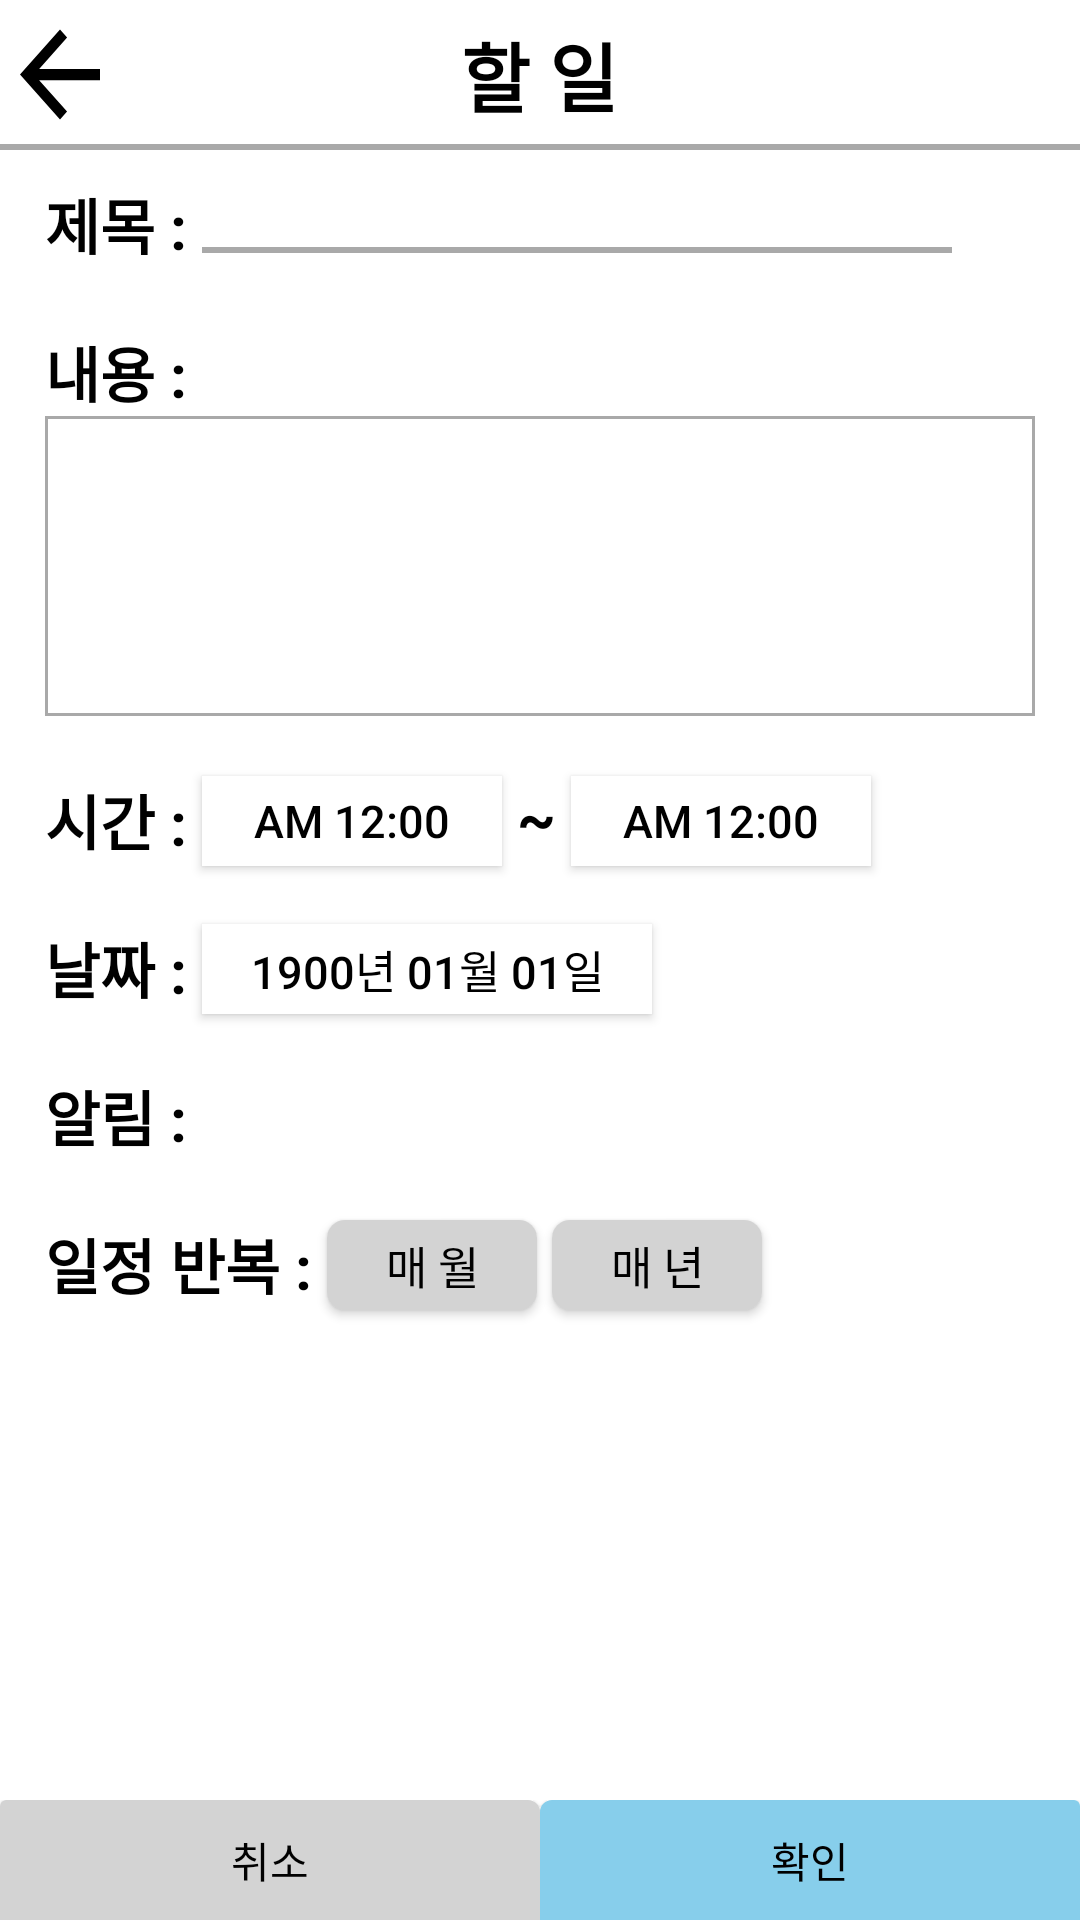

Where icons sit on this 1080×1920 app screen, as (x1, y1, x2, y2):
arrow back: (20, 29, 100, 120)
